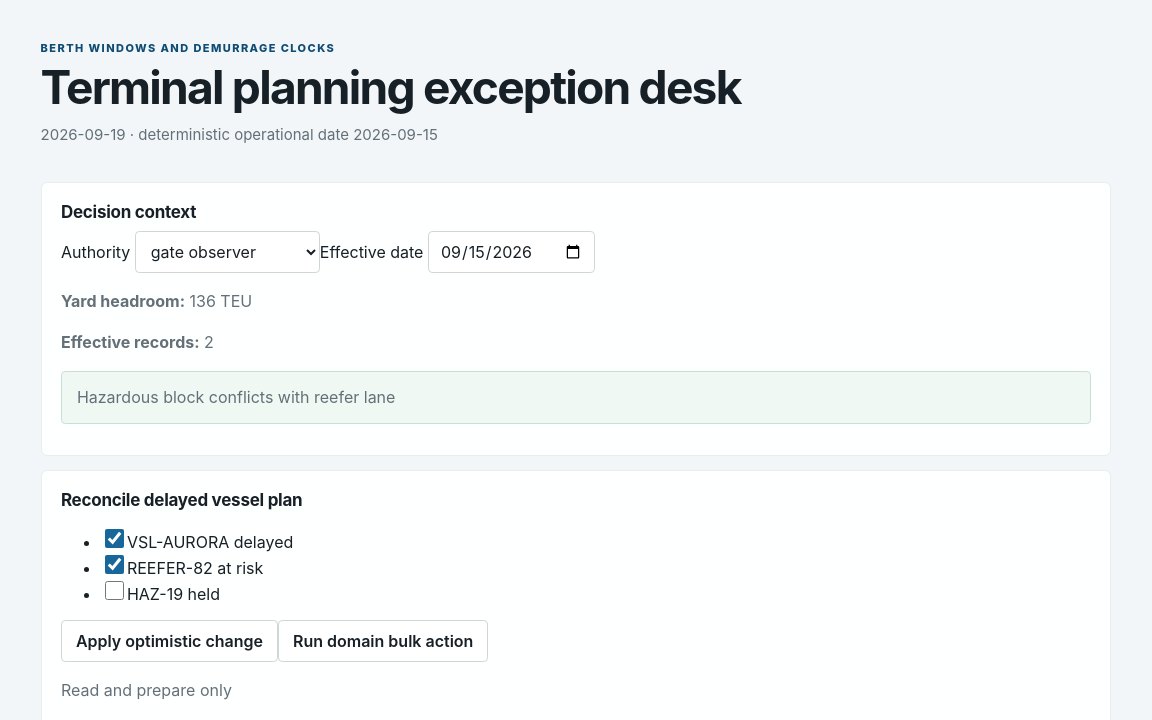
it: Terminal planning exception desk › shows permission behavior and partial recovery in the UI
Select "hazmat supervisor" in the dropdown labelled "Authority" at (227, 252), box [135,231,320,273]
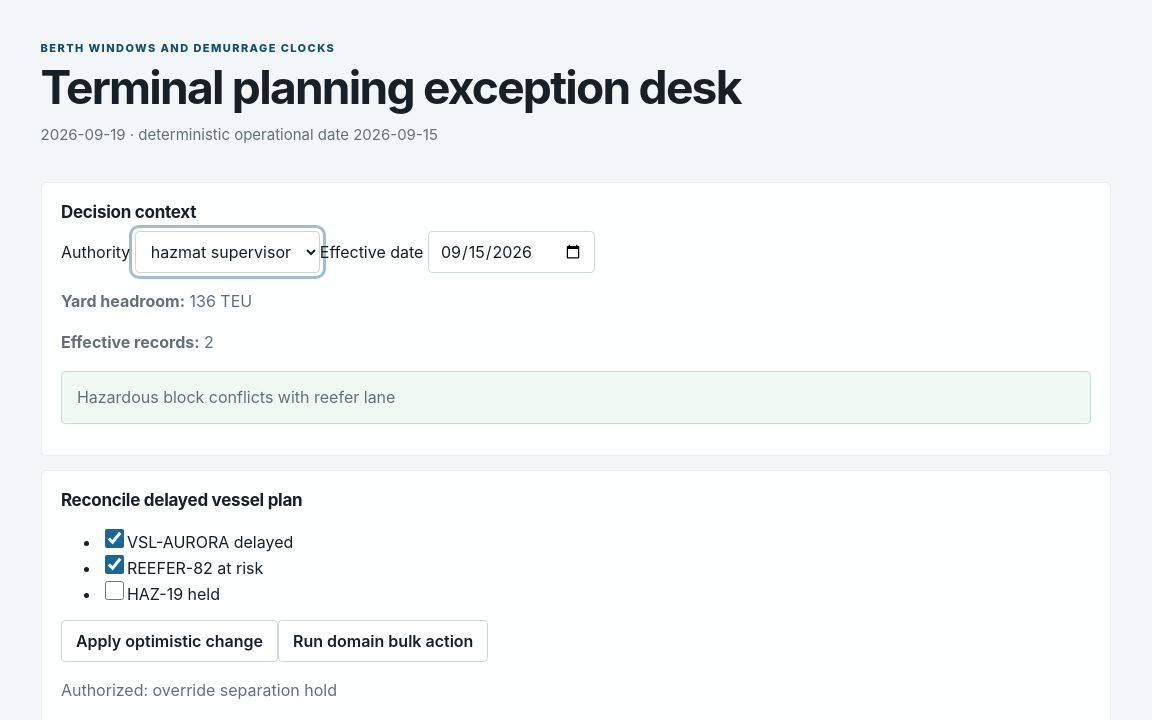
Click the button "Run domain bulk action" at (383, 641), box [278,620,488,662]
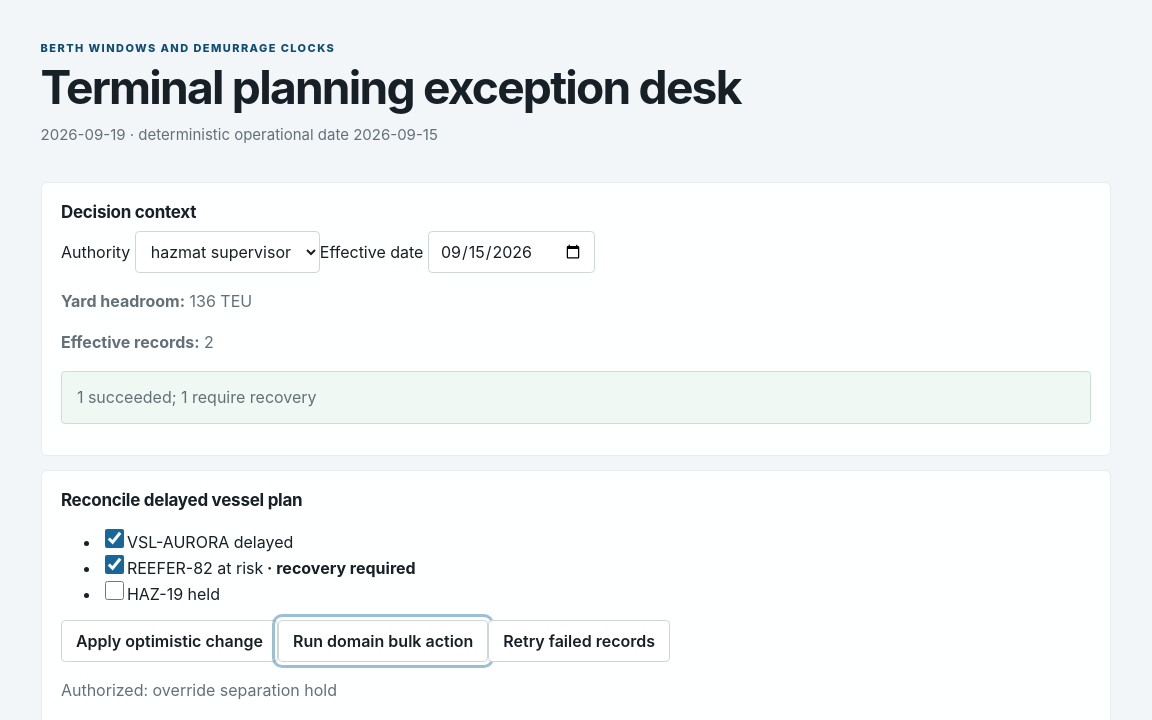
Expected: the message reads "1 succeeded; 1 require recovery", [77,387,317,407]
Expected: the text "· recovery required" is shown, [263,558,416,578]
Expected: the button "Retry failed records" is shown, [488,620,670,662]
